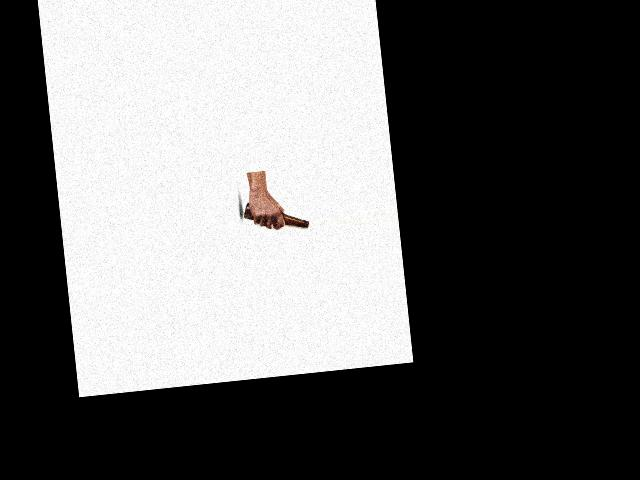beer: (241, 196, 308, 234)
